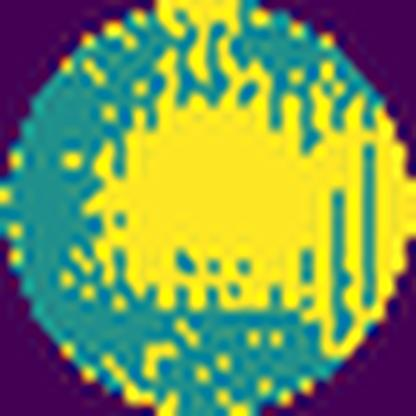Loc: (76, 0, 416, 357)
